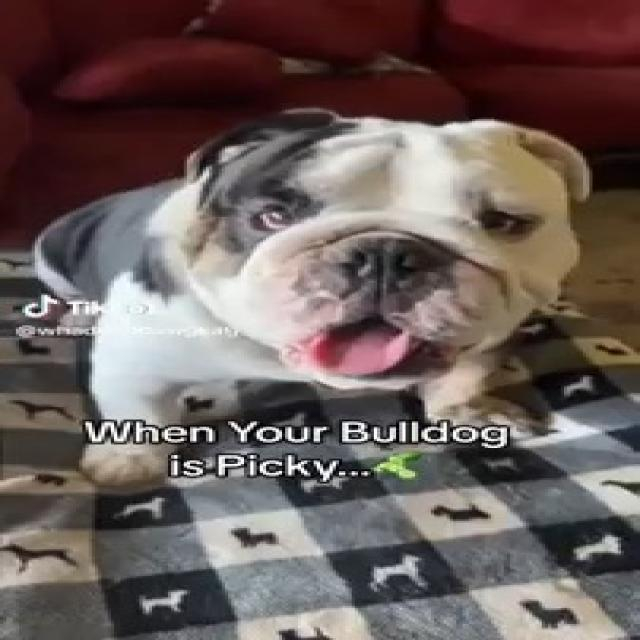dogs: (15, 112, 627, 498)
